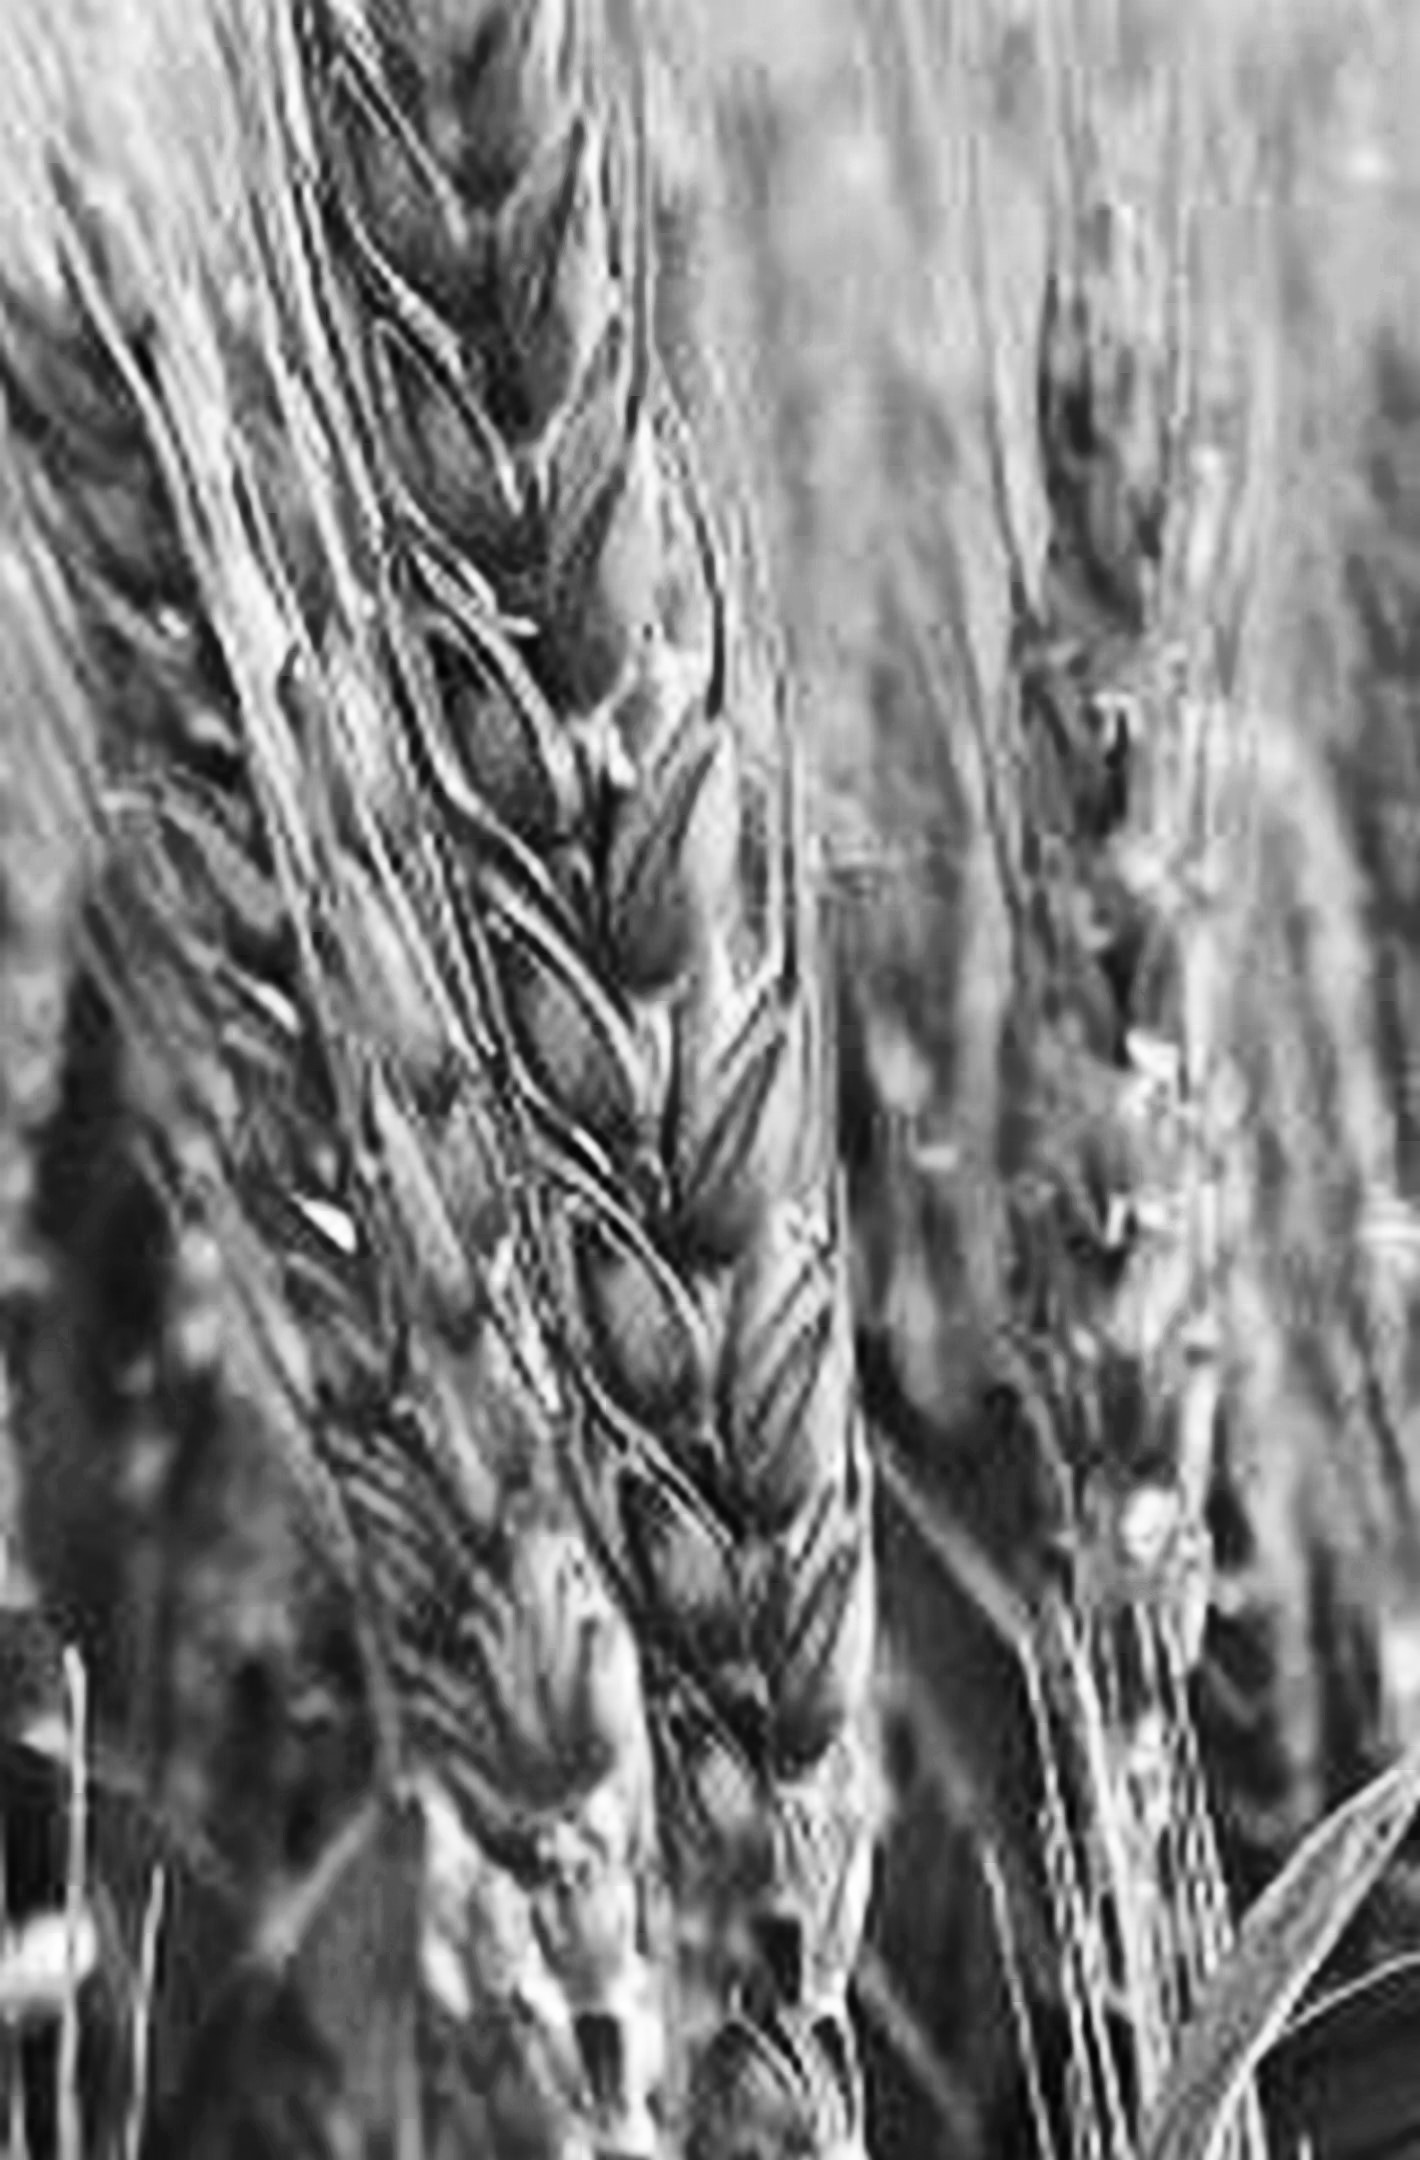Healthy Wheat: (314, 32, 935, 1723)
